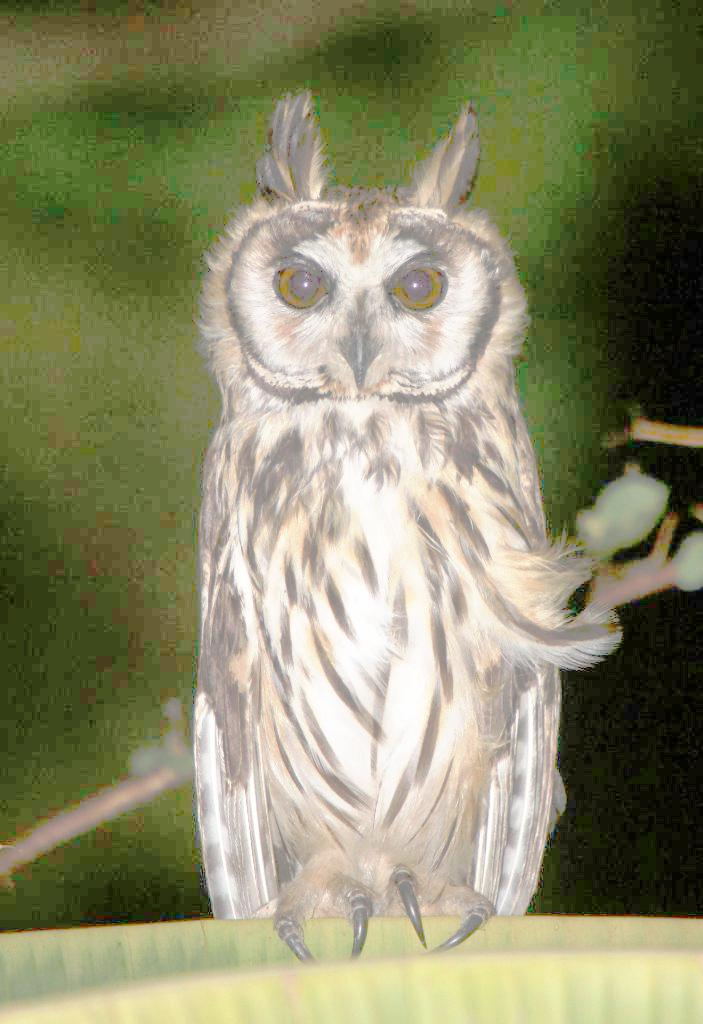Owl: (190, 97, 626, 969)
